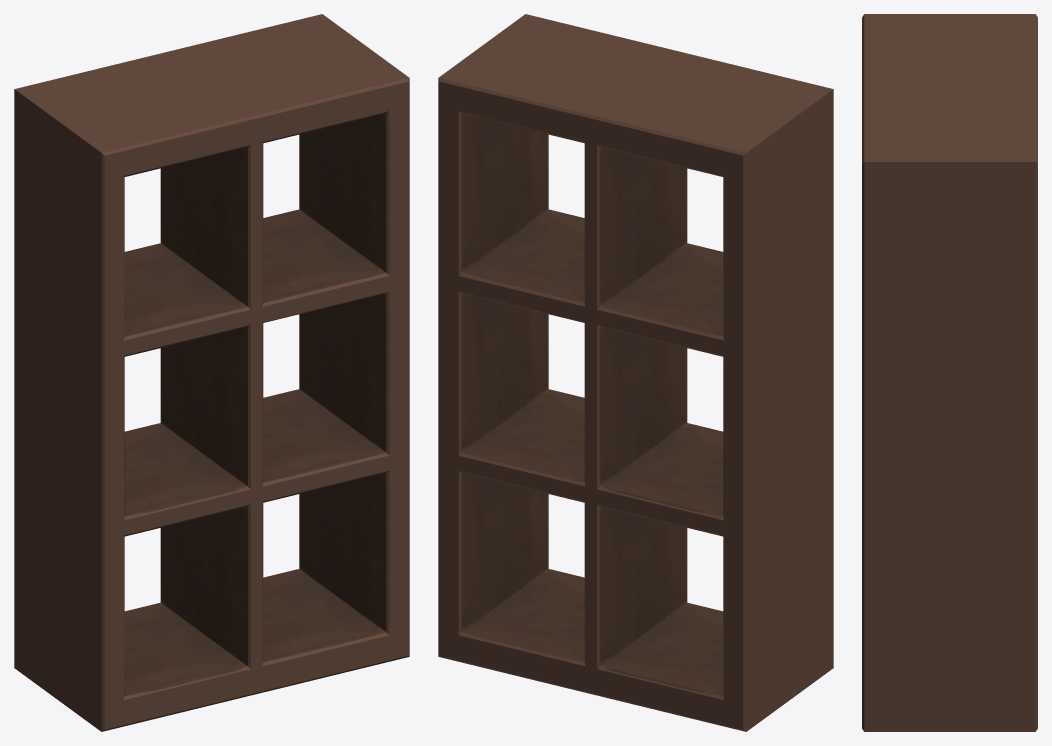
The model's file is Estante_H1.obj.
3 renders of one model, left to right at view 1: azimuth 30°, elevation 25°; view 2: azimuth 150°, elevation 25°; view 3: azimuth 270°, elevation 25°, orthographic.
Parts seen in each view (by area): view 1: Estante_H1; view 2: Estante_H1; view 3: Estante_H1.
Part boxes in pixels (box(x1,y1,x2,y2)): Estante_H1: box(14, 14, 409, 731); Estante_H1: box(438, 14, 833, 731); Estante_H1: box(862, 14, 1037, 731).
Bounding box in the file's own units: 0.5281 × 0.9491 × 0.2653.
Materials: 1 (1 with a texture image).
